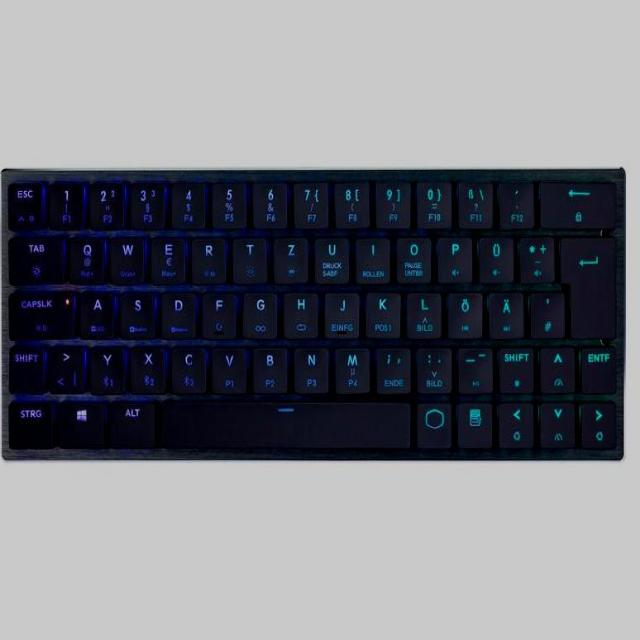0: (415, 179, 453, 230)
1: (47, 179, 84, 227)
2: (87, 178, 124, 229)
3: (128, 181, 165, 227)
4: (169, 181, 206, 227)
5: (209, 181, 247, 227)
6: (250, 179, 289, 227)
7: (291, 180, 328, 227)
8: (332, 179, 370, 227)
9: (373, 180, 411, 227)
a: (77, 288, 114, 335)
accent: (496, 179, 534, 227)
ae: (486, 287, 525, 336)
alt-left: (108, 397, 155, 446)
b: (250, 342, 289, 392)
c: (169, 342, 207, 391)
comma: (374, 343, 412, 394)
d: (159, 288, 195, 335)
del: (537, 179, 617, 227)
e: (148, 233, 185, 281)
enter: (558, 233, 615, 336)
f: (200, 288, 236, 337)
g: (241, 288, 277, 337)
h: (281, 288, 318, 338)
hash: (527, 287, 565, 336)
i: (353, 236, 390, 285)
j: (323, 290, 360, 339)
k: (364, 290, 401, 339)
keyboard: (0, 167, 625, 460)
l: (405, 291, 442, 340)
less: (47, 341, 84, 392)
m: (332, 342, 371, 392)
minus: (455, 342, 493, 393)
n: (291, 344, 329, 393)
o: (394, 236, 431, 285)
oe: (445, 288, 482, 337)
p: (435, 233, 472, 281)
plus: (517, 232, 555, 281)
point: (415, 344, 453, 395)
q: (67, 233, 104, 282)
r: (189, 233, 226, 281)
s: (118, 288, 155, 335)
shift-left: (7, 342, 43, 391)
shift-lock: (7, 288, 74, 338)
shift-right: (496, 342, 534, 393)
space: (158, 396, 413, 447)
ss: (455, 179, 493, 228)
strg-left: (6, 397, 53, 447)
t: (231, 233, 267, 281)
tab: (7, 234, 63, 282)
u: (311, 234, 350, 282)
ue: (477, 232, 514, 281)
v: (210, 342, 247, 392)
w: (108, 232, 145, 281)
x: (129, 342, 166, 392)
y: (88, 342, 124, 392)
z: (272, 234, 309, 282)
